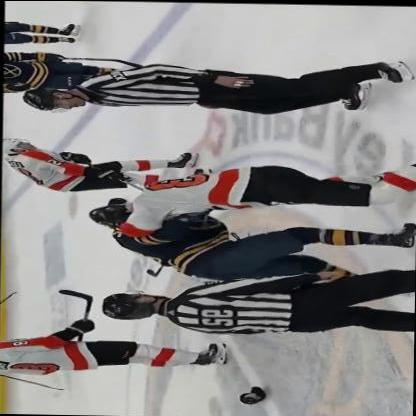non-Voilence: (28, 61, 397, 117)
voilence: (79, 159, 415, 284), (99, 278, 414, 336)
